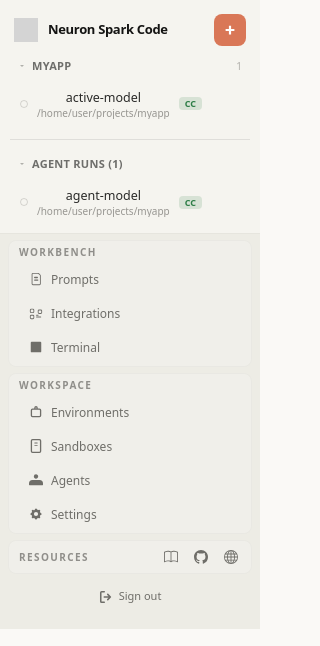
Test: Sidebar › toggling Agent Runs section hides/shows agent sessions
The width and height of the screenshot is (320, 646).
Expected: the text "agent-model" is shown, [66,187,141,204]
What coordinates should you click on to do the following:
click the button "Agent Runs (1)"
I would click on:
 (130, 164)
Its box is [10,152,250,177].
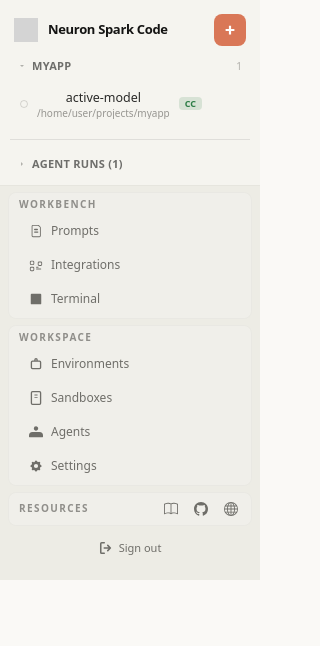
Now the button "agent-model" is gone
// Expand again
What coordinates should you click on to do the following:
click the button "Agent Runs (1)"
I would click on:
 (130, 164)
Its box is [10,152,250,177].
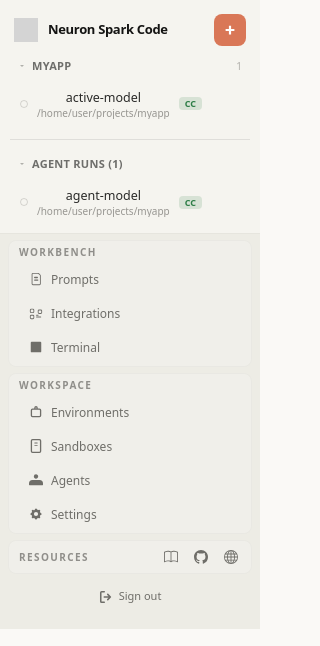
Now the text "agent-model" is shown, box [66,187,141,204]
